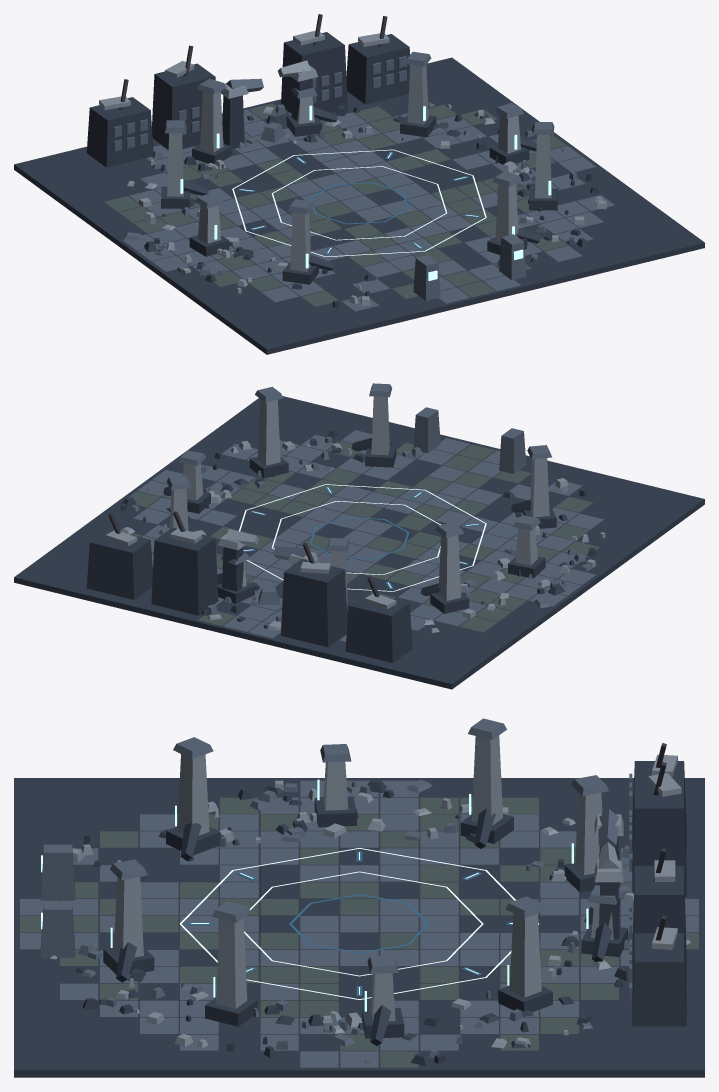
Rendered from ARENA_02_CollapsedCourt.glb.
3 renders of one model, top to bottom at view 1: azimuth 30°, elevation 25°; view 2: azimuth 150°, elevation 25°; view 3: azimuth 270°, elevation 25°, orthographic. The views are drawn at different scales.
Visible parts, largest first — view 1: SM_ARENA_02_CollapsedCourt_Ground, SM_ARENA_02_CollapsedCourt_CollapsedFacades, SM_ARENA_02_CollapsedCourt_BrokenColumns, SM_ARENA_02_CollapsedCourt_Rubble, SM_ARENA_02_CollapsedCourt_CoreInlay; view 2: SM_ARENA_02_CollapsedCourt_Ground, SM_ARENA_02_CollapsedCourt_CollapsedFacades, SM_ARENA_02_CollapsedCourt_BrokenColumns, SM_ARENA_02_CollapsedCourt_Rubble, SM_ARENA_02_CollapsedCourt_CoreInlay; view 3: SM_ARENA_02_CollapsedCourt_Ground, SM_ARENA_02_CollapsedCourt_BrokenColumns, SM_ARENA_02_CollapsedCourt_CollapsedFacades, SM_ARENA_02_CollapsedCourt_Rubble, SM_ARENA_02_CollapsedCourt_CoreInlay.
Boxes of the visible parts, x1,y1,x2,y2 form: SM_ARENA_02_CollapsedCourt_Ground: (14,57,704,354); SM_ARENA_02_CollapsedCourt_CollapsedFacades: (86,14,526,300); SM_ARENA_02_CollapsedCourt_BrokenColumns: (161,51,557,284); SM_ARENA_02_CollapsedCourt_Rubble: (123,102,607,307); SM_ARENA_02_CollapsedCourt_CoreInlay: (232,149,486,256); SM_ARENA_02_CollapsedCourt_Ground: (14,396,704,689); SM_ARENA_02_CollapsedCourt_CollapsedFacades: (86,407,526,662); SM_ARENA_02_CollapsedCourt_BrokenColumns: (163,383,556,621); SM_ARENA_02_CollapsedCourt_Rubble: (120,428,605,632); SM_ARENA_02_CollapsedCourt_CoreInlay: (239,484,486,591); SM_ARENA_02_CollapsedCourt_Ground: (14,778,704,1077); SM_ARENA_02_CollapsedCourt_BrokenColumns: (103,718,627,1045); SM_ARENA_02_CollapsedCourt_CollapsedFacades: (40,743,686,1026); SM_ARENA_02_CollapsedCourt_Rubble: (50,779,690,1066); SM_ARENA_02_CollapsedCourt_CoreInlay: (180,848,538,999).
Size of the model in its own units: 44 by 9.19 by 44.
